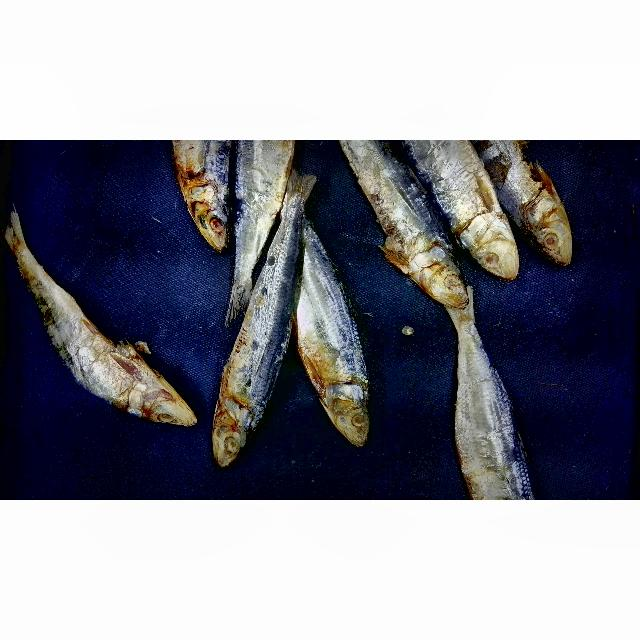Grade_B_Body: (432, 359, 550, 500), (333, 147, 442, 244), (291, 252, 374, 367), (70, 289, 132, 421), (401, 142, 504, 218), (237, 265, 291, 373), (232, 146, 288, 244), (473, 140, 571, 190)
Grade_B_Head: (302, 373, 387, 450), (203, 375, 265, 469), (133, 352, 199, 432), (457, 216, 525, 286), (388, 257, 474, 311), (515, 205, 579, 273), (181, 180, 237, 255)
Grade_B_Tail: (3, 234, 68, 332), (430, 300, 503, 362), (274, 167, 319, 248)
